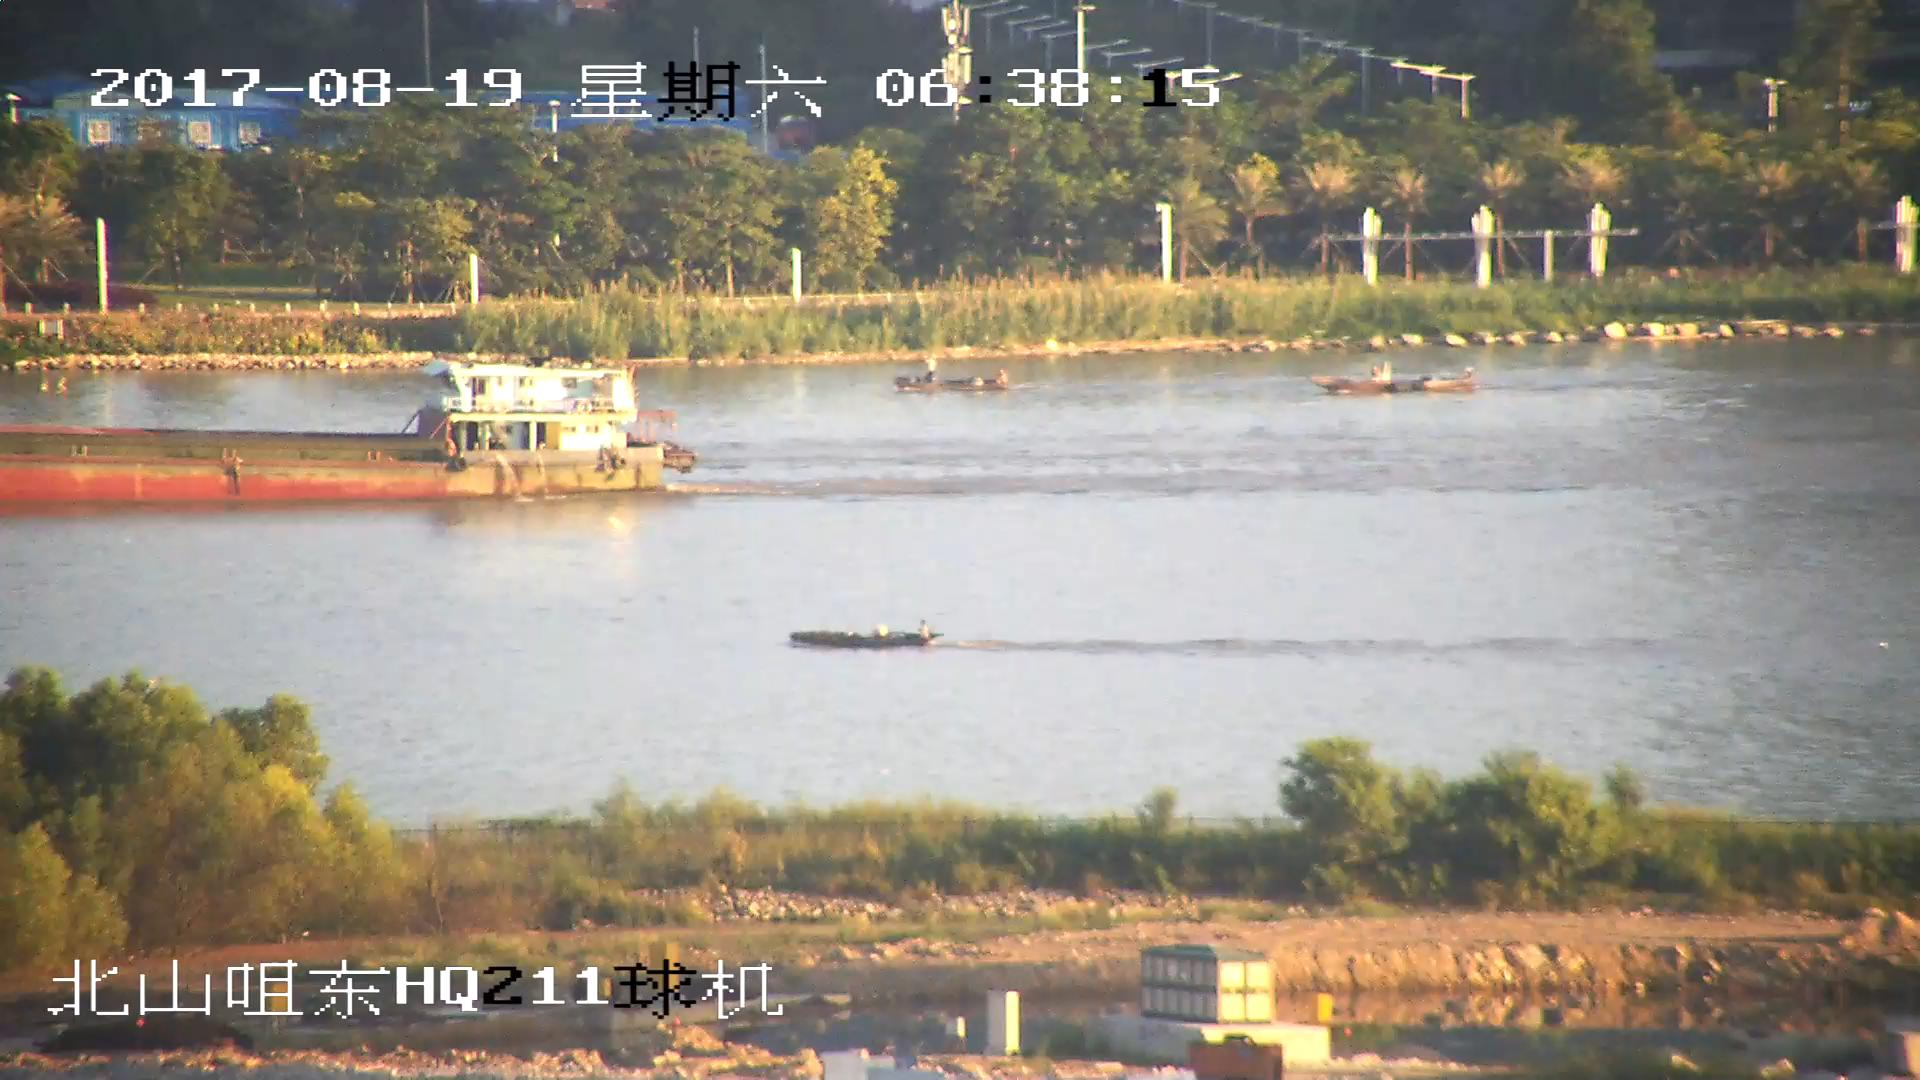bulk cargo carrier: (1, 359, 694, 499)
fishing boat: (1314, 362, 1477, 397), (790, 625, 940, 649), (900, 360, 1007, 393)
